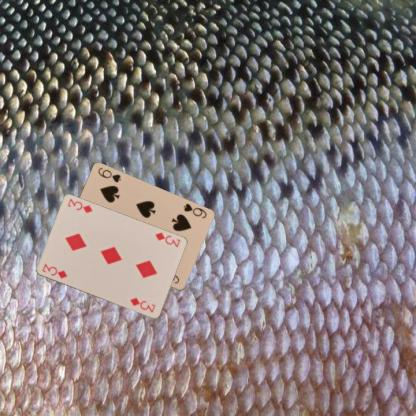3d: (39, 261, 68, 280), (152, 230, 182, 248)
6s: (180, 201, 208, 220)
